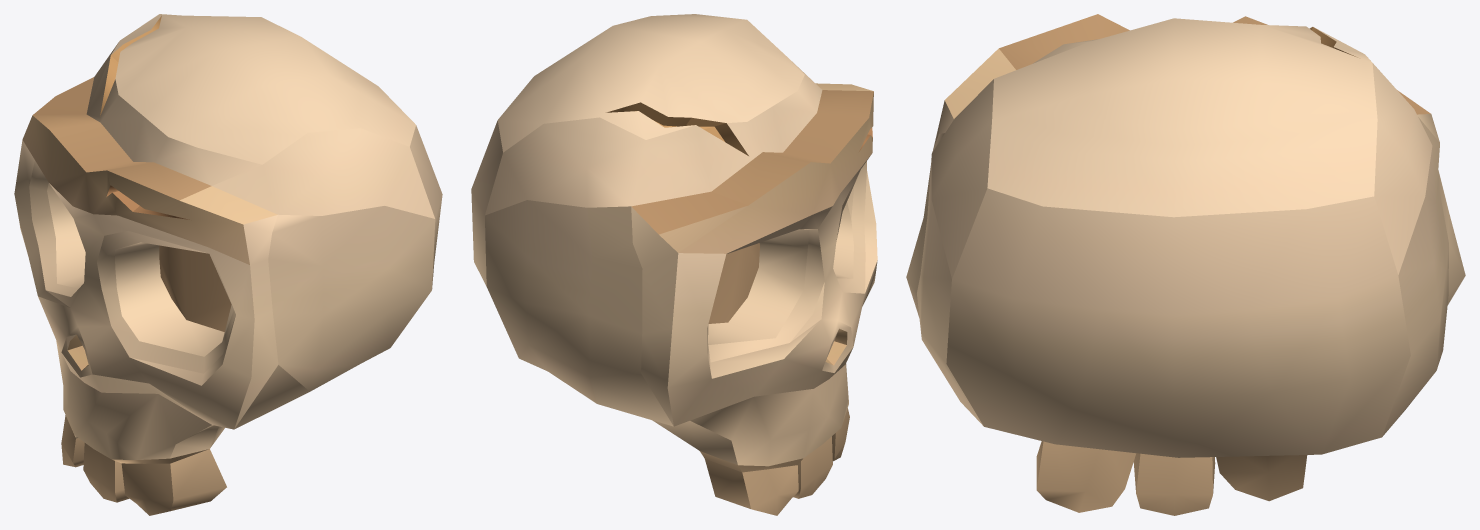
File: Skull_2.obj
The picture shows the model from 3 angles, left to right: view 1: azimuth 30°, elevation 25°; view 2: azimuth 150°, elevation 25°; view 3: azimuth 270°, elevation 25°; orthographic projection. The views are drawn at different scales.
Visible parts, largest first — view 1: Skull_2; view 2: Skull_2; view 3: Skull_2.
Part boxes in pixels (bbox=[...]): Skull_2: bbox=[14, 14, 442, 515]; Skull_2: bbox=[471, 14, 877, 515]; Skull_2: bbox=[906, 14, 1465, 515].
Size of the model in its own units: 0.3066 by 0.3756 by 0.3521.
